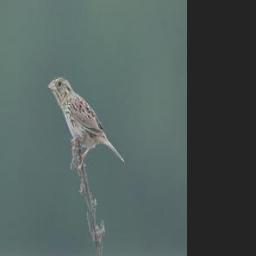Sparrow: (49, 74, 126, 170)
